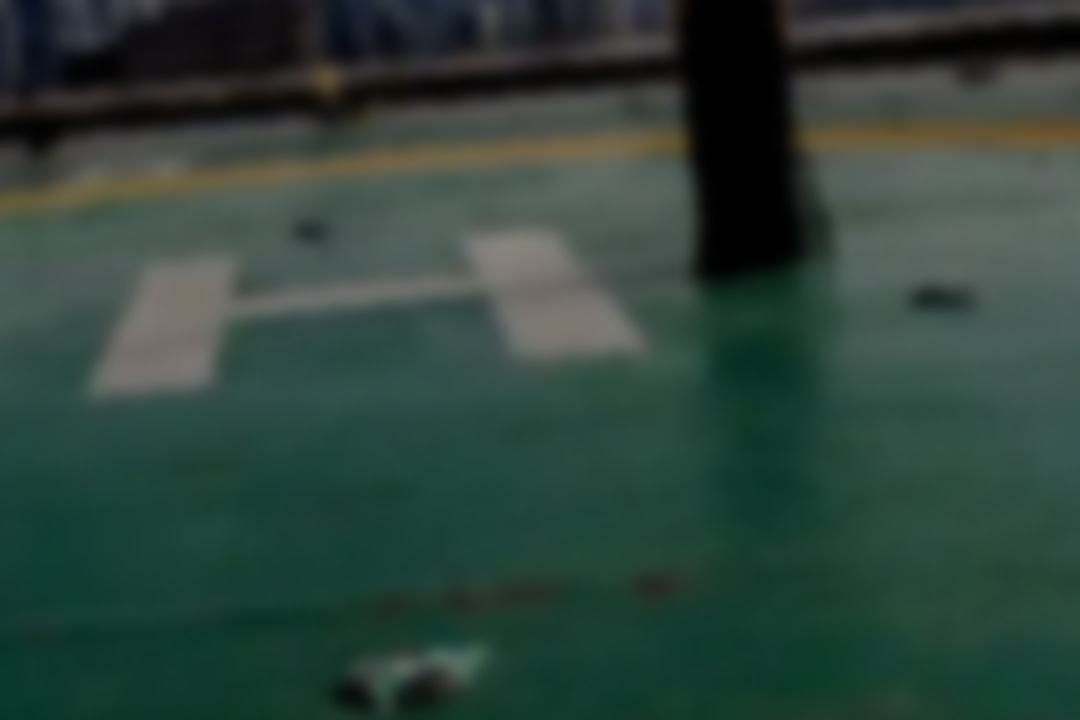Apron: (7, 100, 1080, 720)
